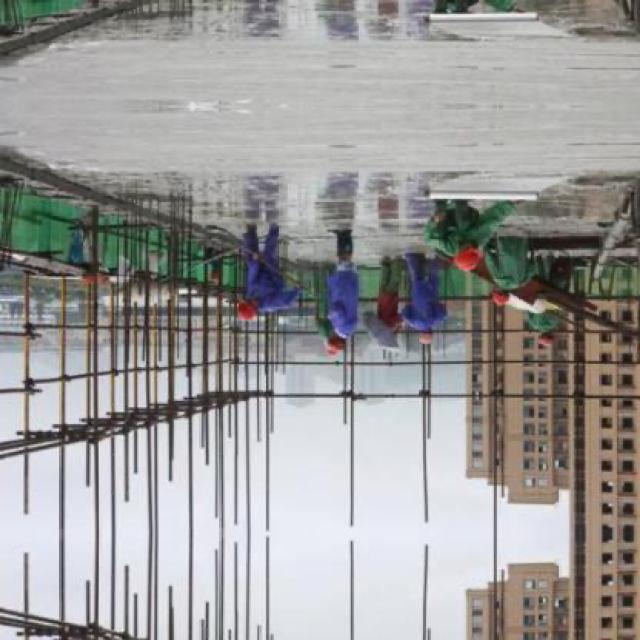con casco: (329, 324, 376, 369), (234, 296, 278, 344)
